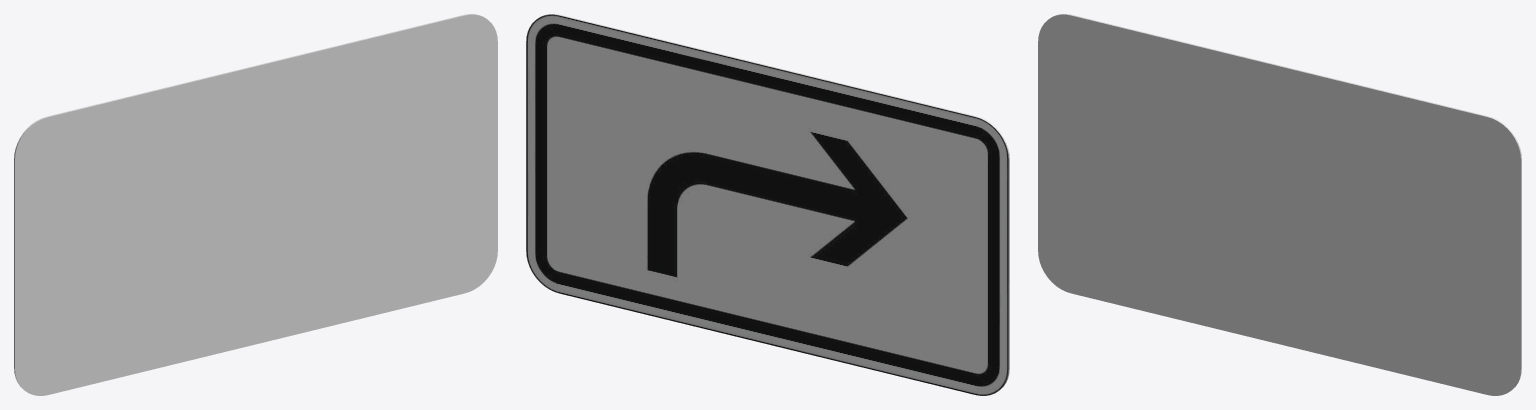
3 views of the same model, side by side, from view 1: azimuth 30°, elevation 25°; view 2: azimuth 150°, elevation 25°; view 3: azimuth 330°, elevation 25° (orthographic).
Visible parts, largest first — view 1: Plane; view 2: Plane; view 3: Plane.
Part boxes in pixels (<box>): Plane: <box>14,14,497,395</box>; Plane: <box>526,14,1009,395</box>; Plane: <box>1038,14,1521,395</box>.
Bounding box in the file's own units: 0.6 × 0.33 × 0.002.
2 materials, 1 textured.
